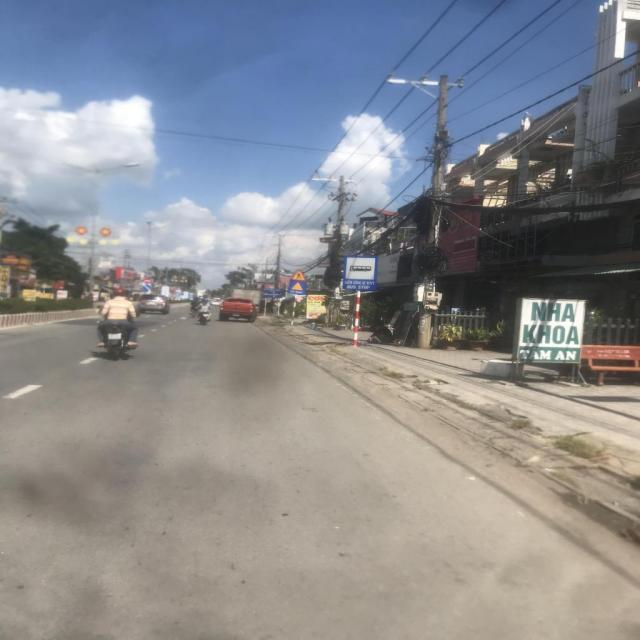cam_xe_di_nguoc_chieu: (143, 278, 151, 284)
cho: (287, 280, 307, 295)
chu_y_nguoi_di_bo_cat_ngang: (290, 269, 307, 281)
huong_phai_di_vuot_chuong_ngai_vat_phai: (143, 284, 151, 290)
khac: (343, 256, 378, 290), (262, 289, 282, 298)
